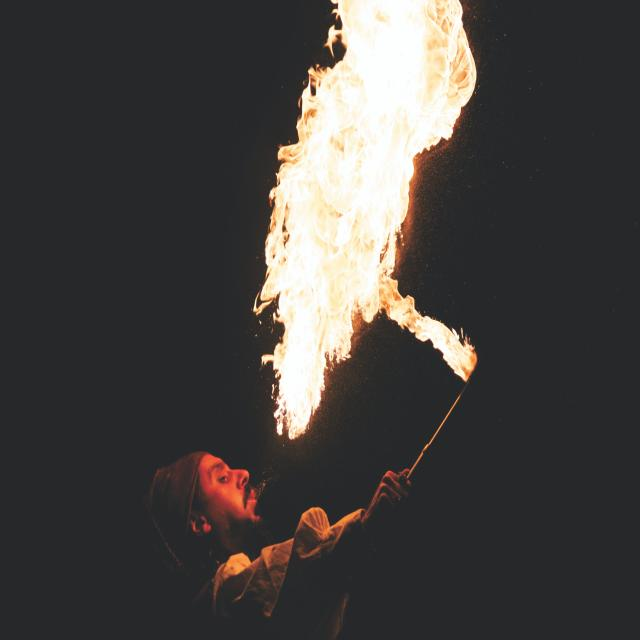fire: (264, 0, 483, 441)
